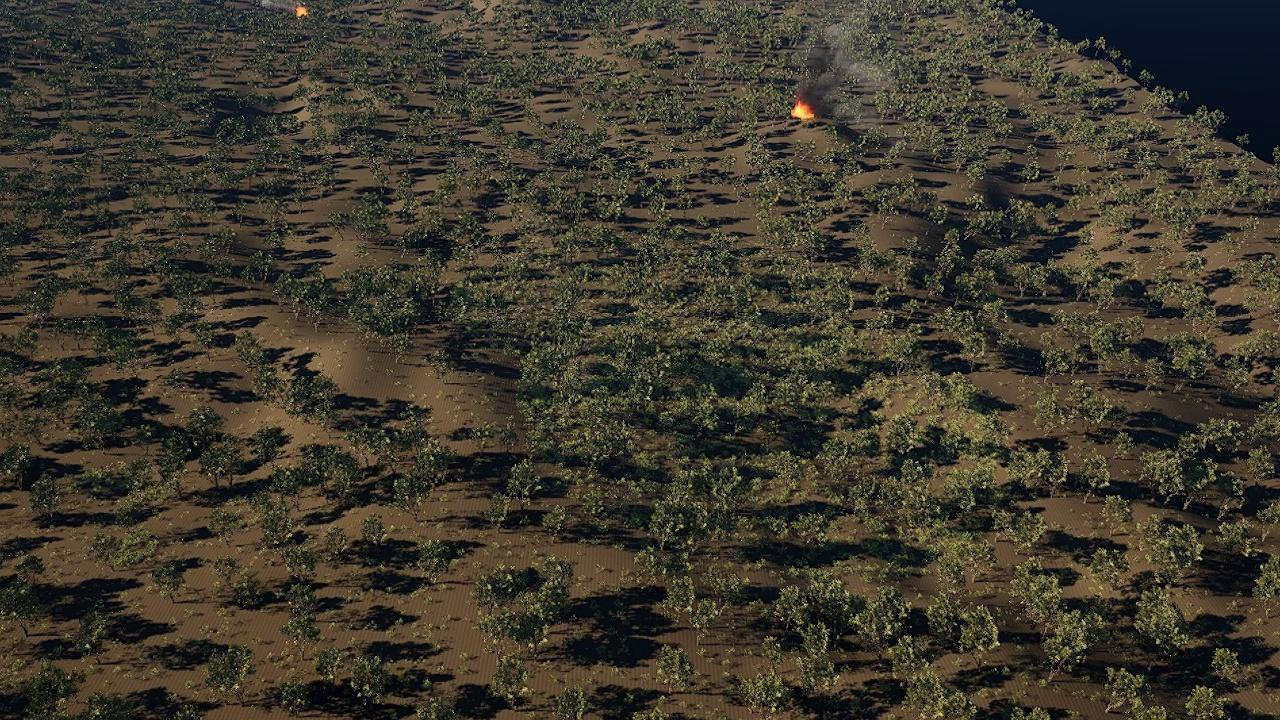fire: (791, 102, 812, 120), (294, 6, 308, 17)
smoke: (794, 0, 911, 116), (257, 0, 304, 13)
